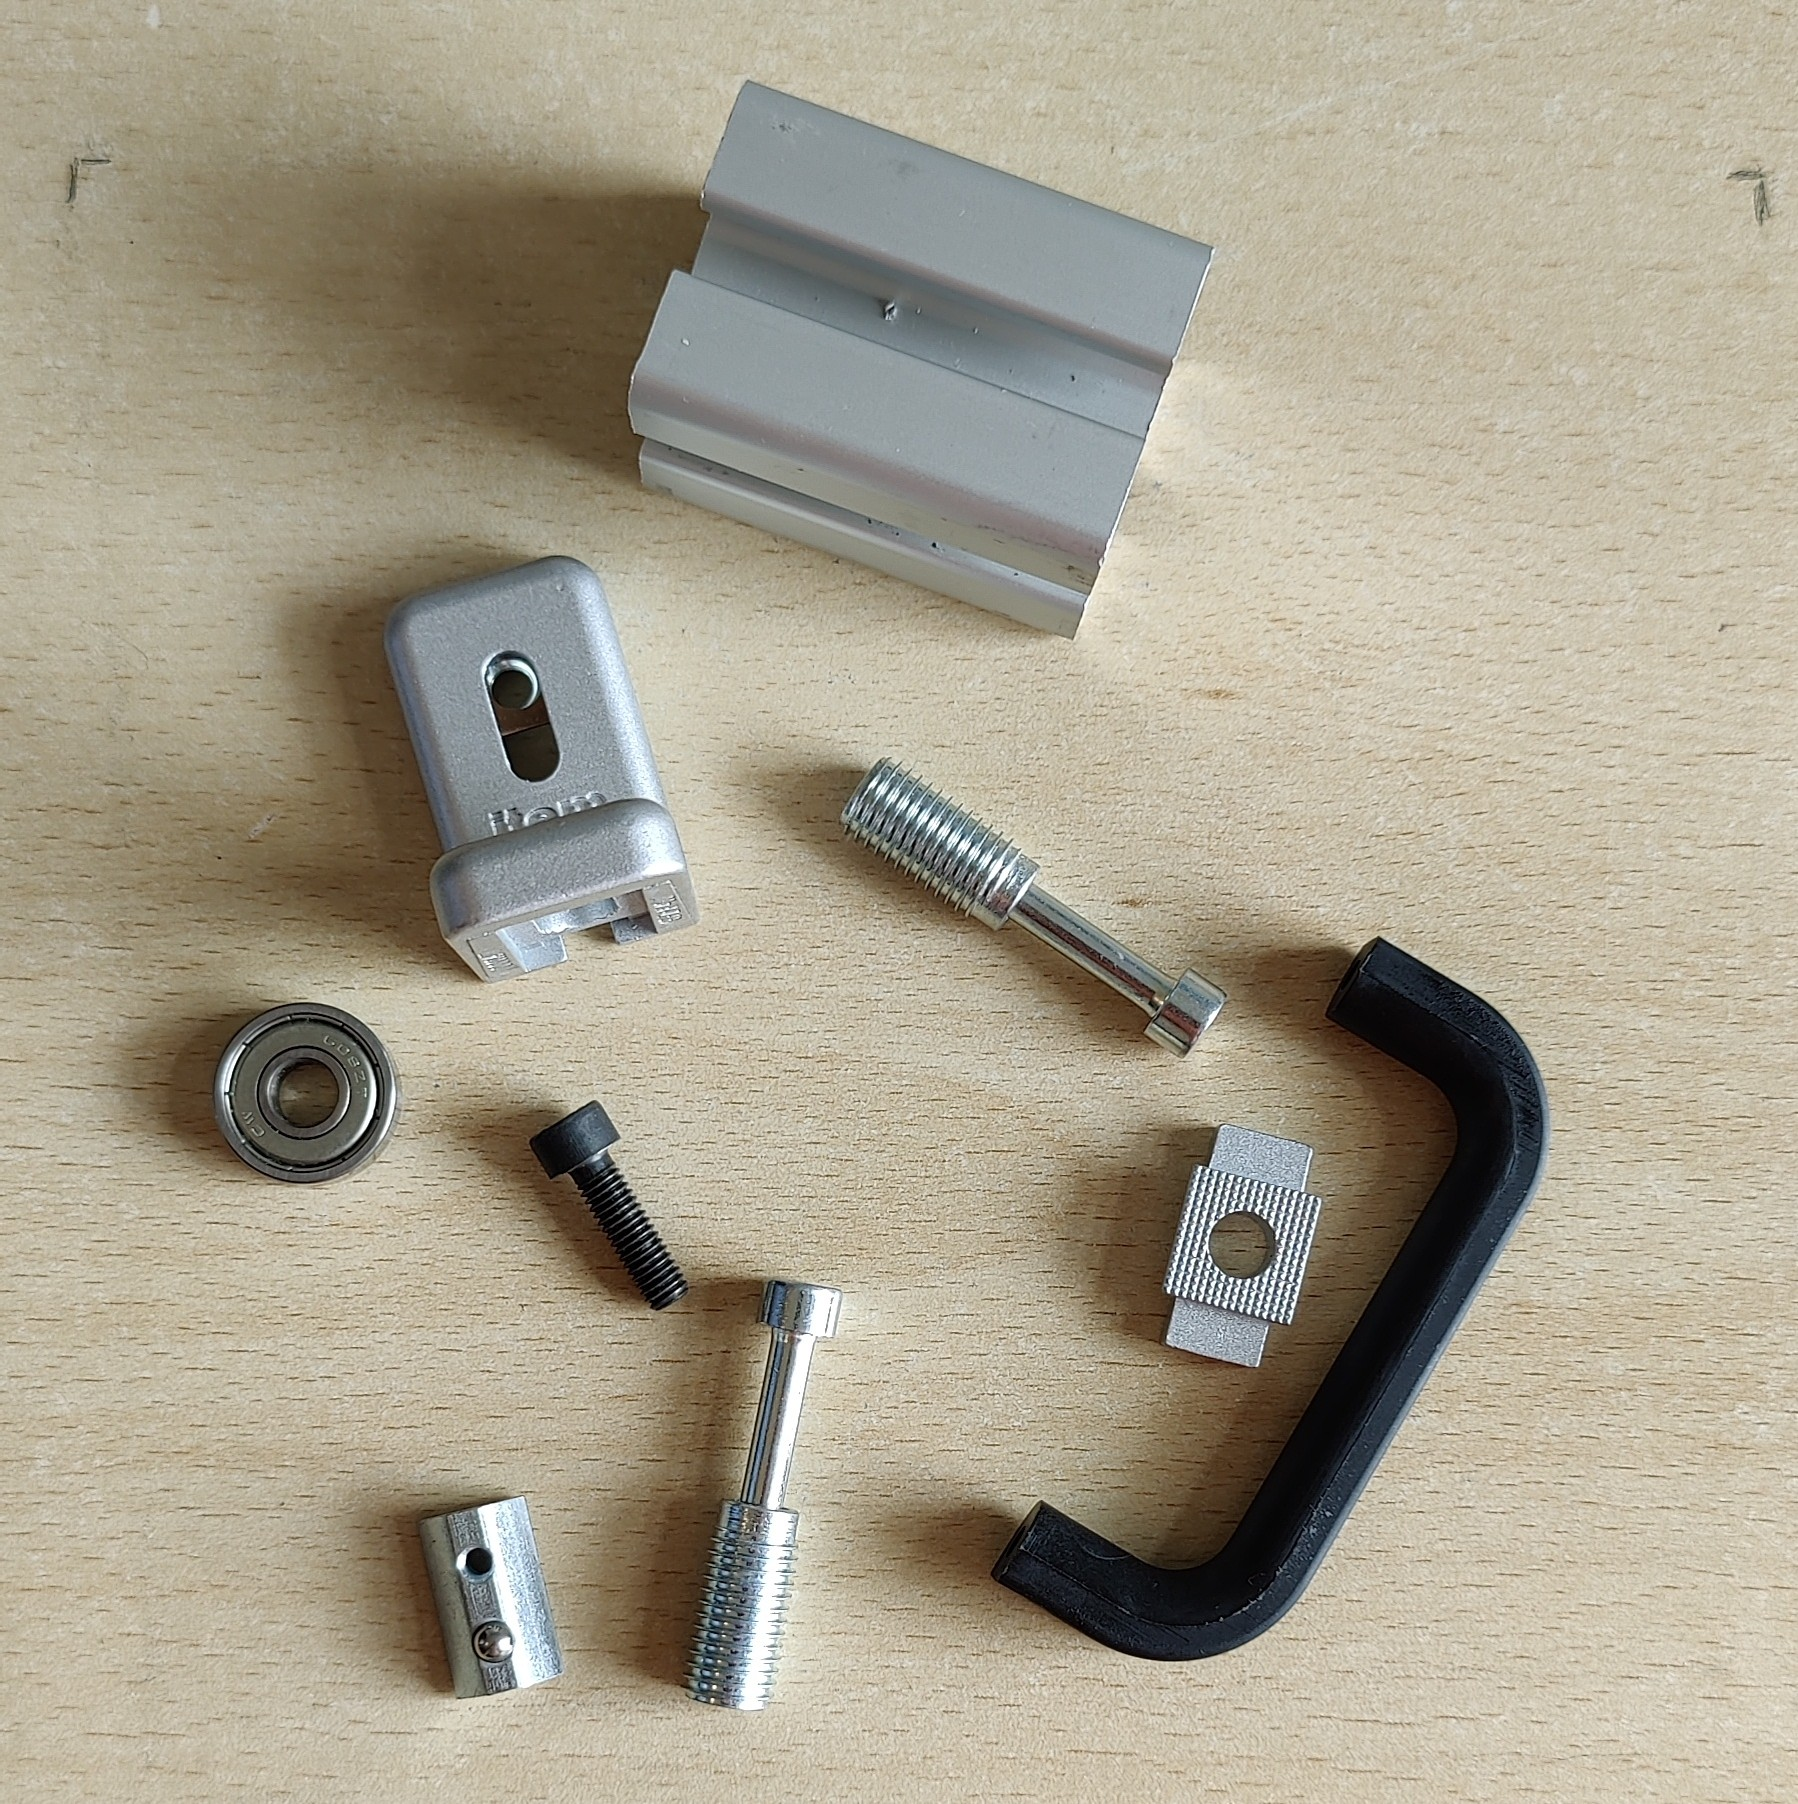Aluminium Extension: (626, 72, 1218, 647)
Ball Bearing: (209, 1002, 403, 1188)
Multiwinkel: (379, 551, 706, 986)
Pull Handle: (986, 932, 1551, 1664)
Shoulder Socket Head Cap Screw: (835, 756, 1228, 1063), (678, 1277, 848, 1713)
Socket Head Cap Screw: (529, 1100, 692, 1315)
T Nut Square: (1158, 1121, 1325, 1374)
T Spring Nut: (415, 1495, 570, 1704)
